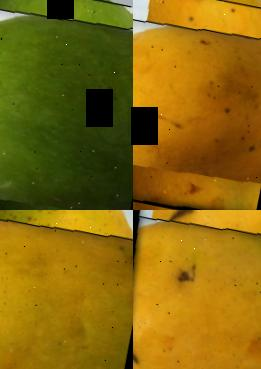PartiallyRipe: (0, 210, 133, 369)
Ripe: (133, 0, 261, 210), (133, 210, 261, 369)
Unripe: (0, 0, 133, 210)
